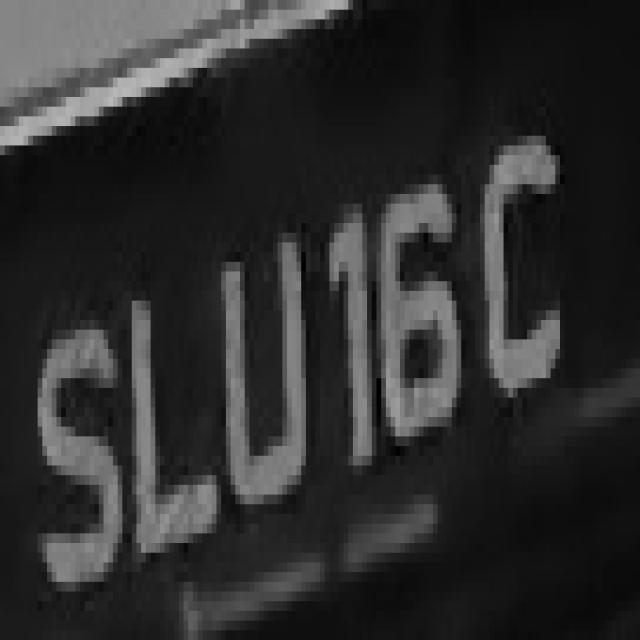1: (330, 165, 390, 494)
6: (358, 155, 470, 466)
C: (470, 78, 570, 436)
L: (113, 262, 226, 582)
S: (37, 301, 132, 601)
U: (207, 233, 306, 514)
